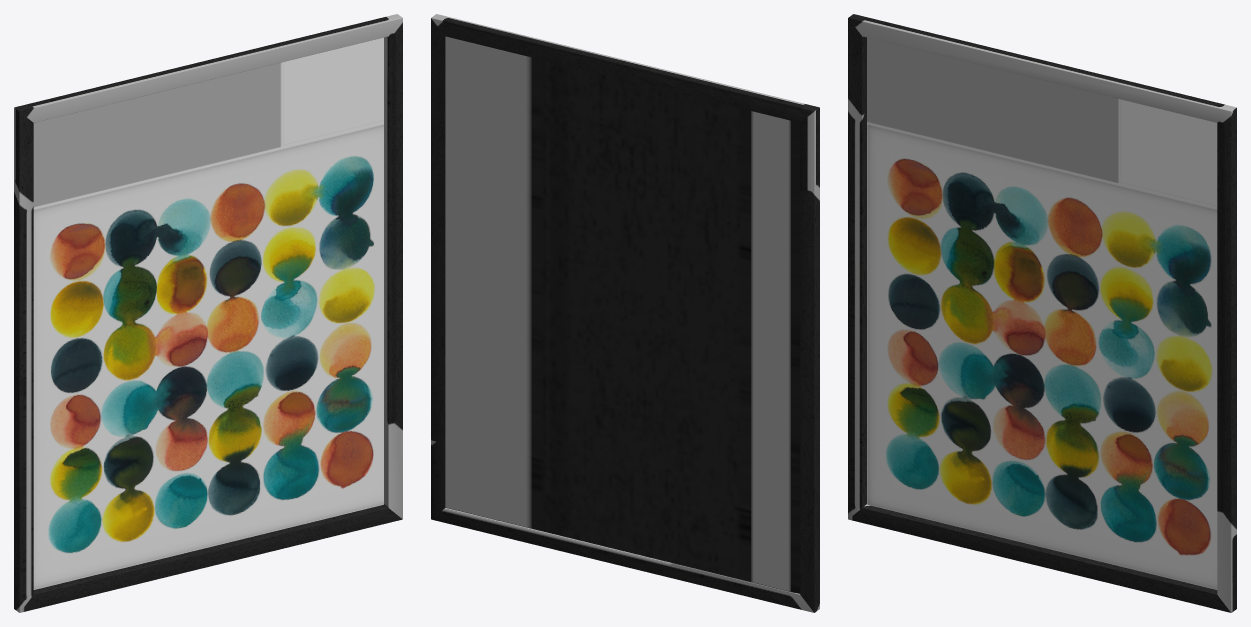
File: Breakfast At Tiffany's 1961 40x50cm.fbx
3 views of the same model, side by side, from view 1: azimuth 30°, elevation 25°; view 2: azimuth 150°, elevation 25°; view 3: azimuth 330°, elevation 25° (orthographic).
Visible parts, largest first — view 1: Breakfast_At_Tiffany's_1961_40_x_50cm; view 2: Breakfast_At_Tiffany's_1961_40_x_50cm; view 3: Breakfast_At_Tiffany's_1961_40_x_50cm.
Boxes of the visible parts, x1,y1,x2,y2 form: Breakfast_At_Tiffany's_1961_40_x_50cm: [14, 14, 402, 612]; Breakfast_At_Tiffany's_1961_40_x_50cm: [431, 14, 819, 612]; Breakfast_At_Tiffany's_1961_40_x_50cm: [848, 14, 1236, 612].
Bounding box in the file's own units: 40 × 50 × 1.
